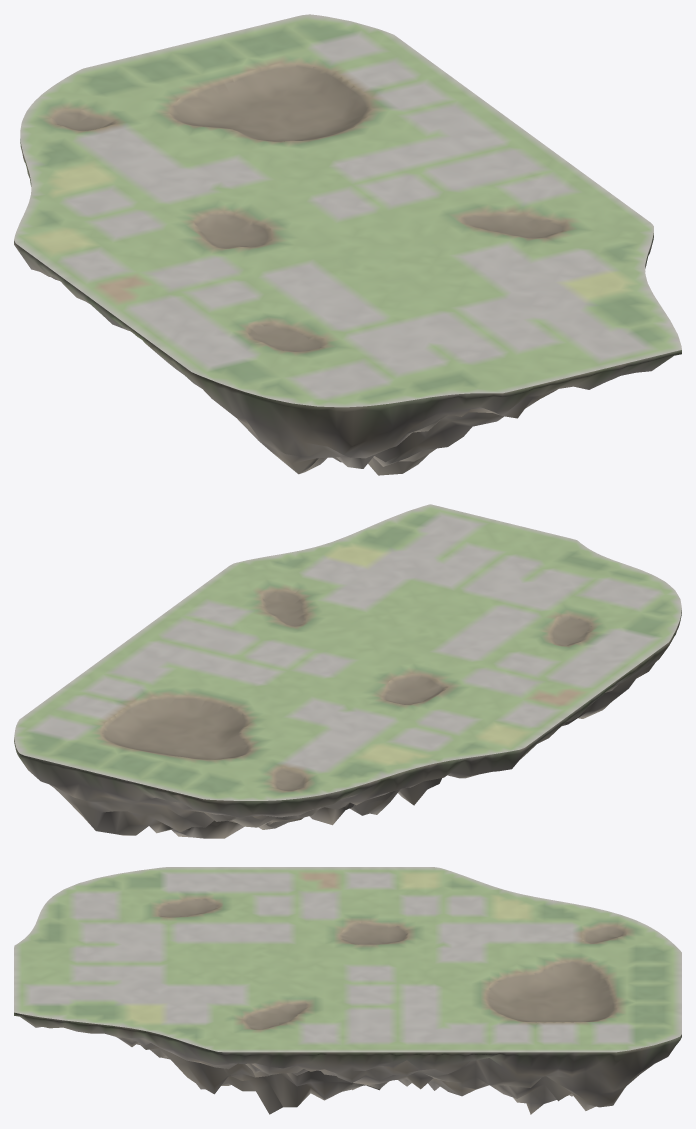
Rendered from SKY-036.rock.glb.
The picture shows the model from 3 angles, top to bottom: view 1: azimuth 30°, elevation 25°; view 2: azimuth 150°, elevation 25°; view 3: azimuth 270°, elevation 25°; orthographic projection. The views are drawn at different scales.
Parts seen in each view (by area): view 1: deck-col, rock; view 2: deck-col, rock; view 3: deck-col, rock.
Part boxes in pixels (bbox=[...]): deck-col: bbox=[14, 14, 681, 407]; rock: bbox=[14, 139, 681, 475]; deck-col: bbox=[14, 504, 681, 800]; rock: bbox=[14, 610, 681, 838]; deck-col: bbox=[14, 867, 681, 1052]; rock: bbox=[14, 1012, 681, 1114].
Bounding box in the file's own units: 191 × 74.49 × 292.
